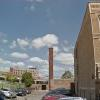Car: (39, 87, 78, 100)
